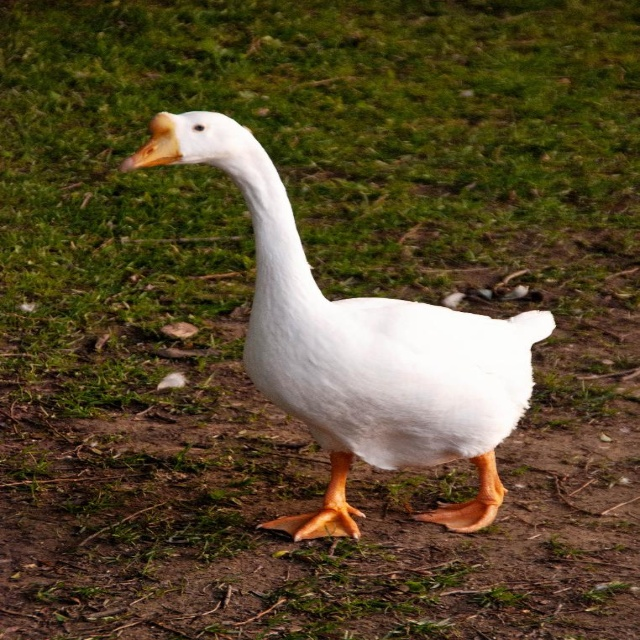Goose: (116, 108, 558, 542)
